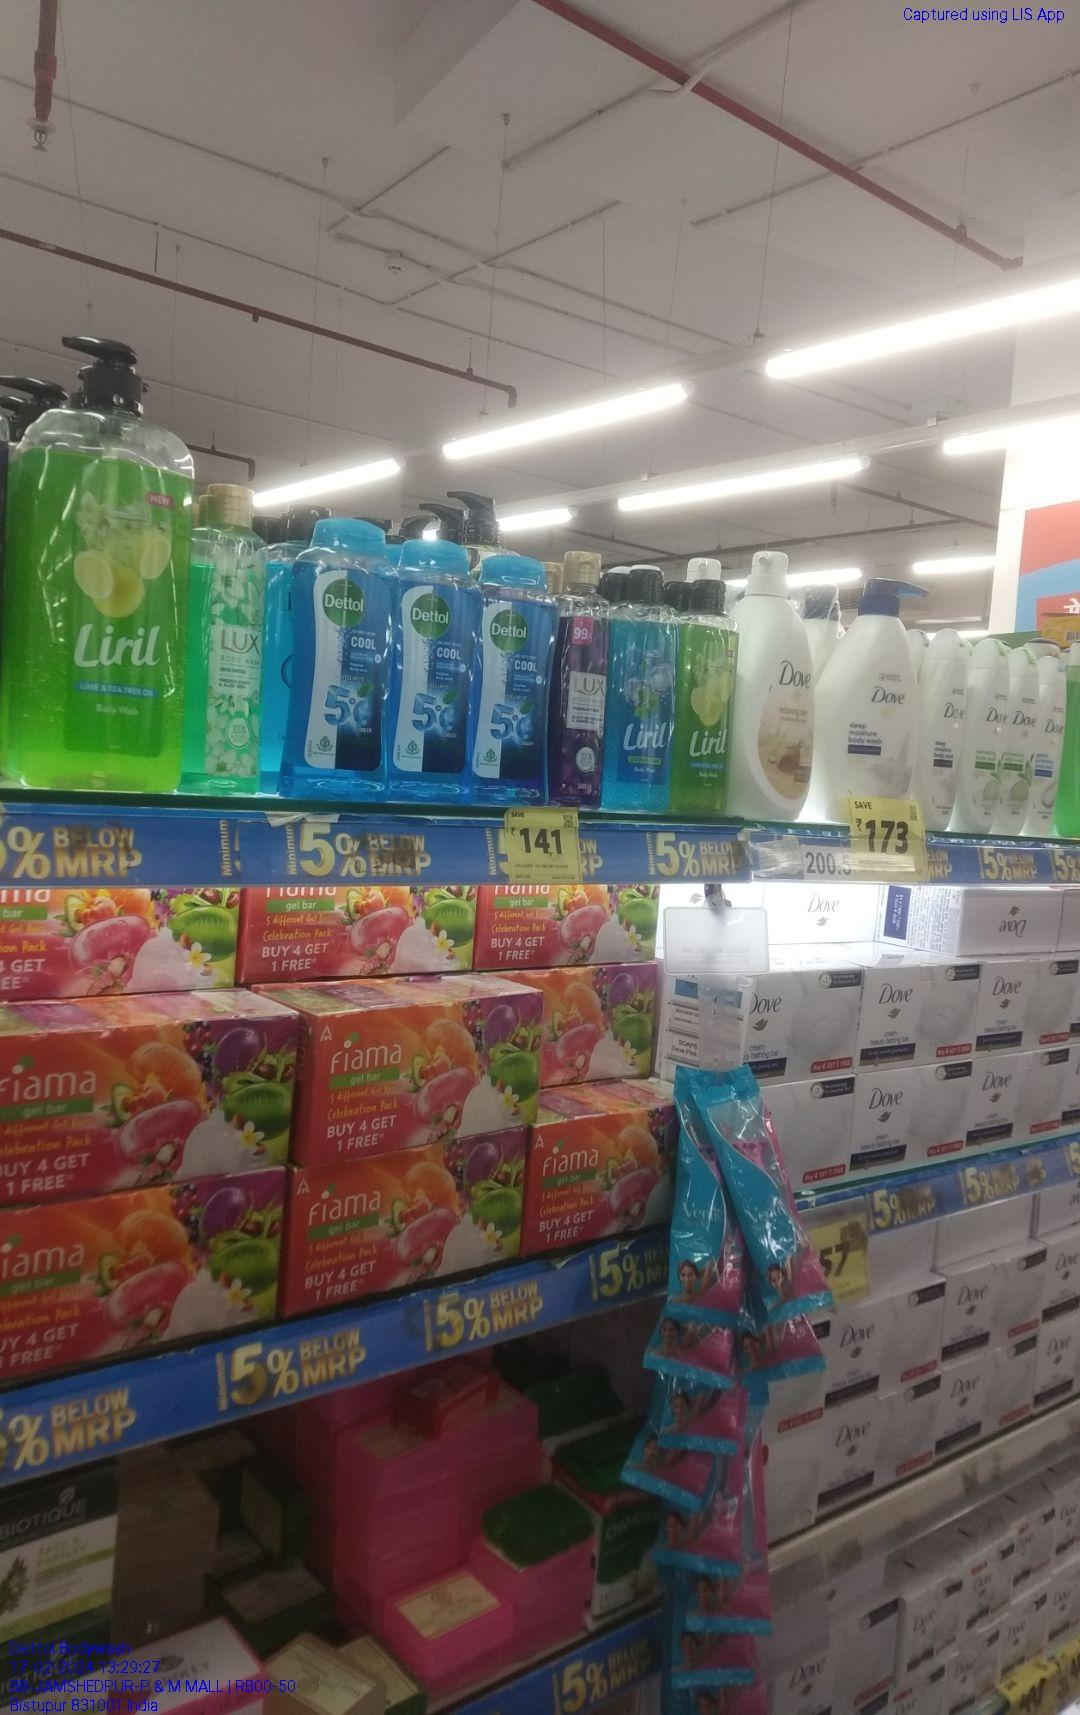Dettol_Bodywash_Cool: (294, 517, 393, 807), (396, 539, 470, 812), (474, 546, 550, 808)
Dove_Deep_Moisture_Body_Wash_250ML: (916, 633, 966, 834)
Dove_Gentle_Exfoliating_Body_Wash_250ML: (1035, 653, 1064, 838)
Dove_Refreshing_Body_Wash_250ML: (967, 638, 1003, 833), (1004, 645, 1034, 836)
Liril_Cooling_Mint_Body_Wash_250ML: (607, 566, 672, 817)
Liril_Lime_and_Tea_Tree_Oil_Body_Wash_250ML: (674, 577, 724, 816)
Lux_Black_Orchid_Scent_and_Juniper_Oil_Body_Wash_245ML: (554, 546, 602, 812)
Lux_Body_Wash_Skin_Detox_Freesia_Scent_and_Alove_Vera_245ML: (194, 481, 263, 796)
